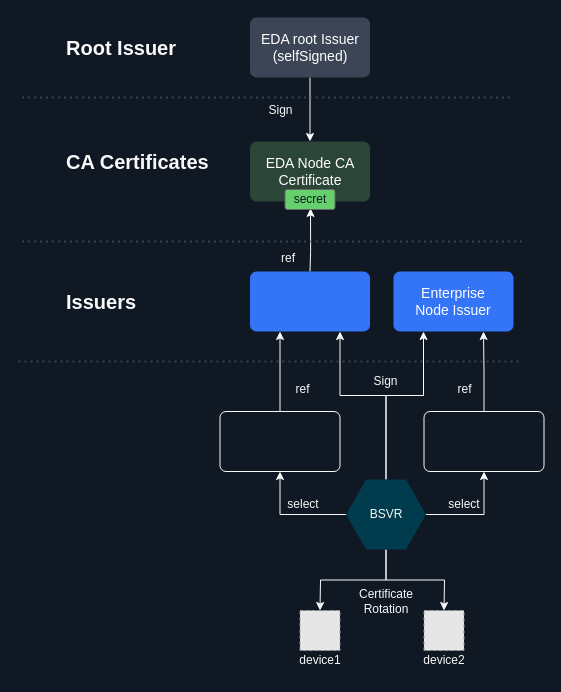
Image size: 561x692. Some labels were removed from this diagram. Grey dashed boxes stand in for pictures. The centre of each missing label's shape, as x and y in pixels:
EDA Node Issuer: the point at 310,301
Node Security Profile device1: the point at 279,441
Node Security Profile device2: the point at 483,441
